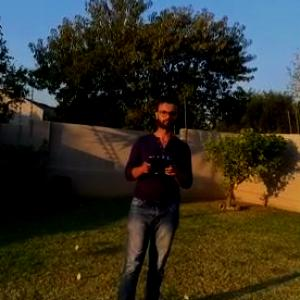follow: (111, 90, 194, 299)
